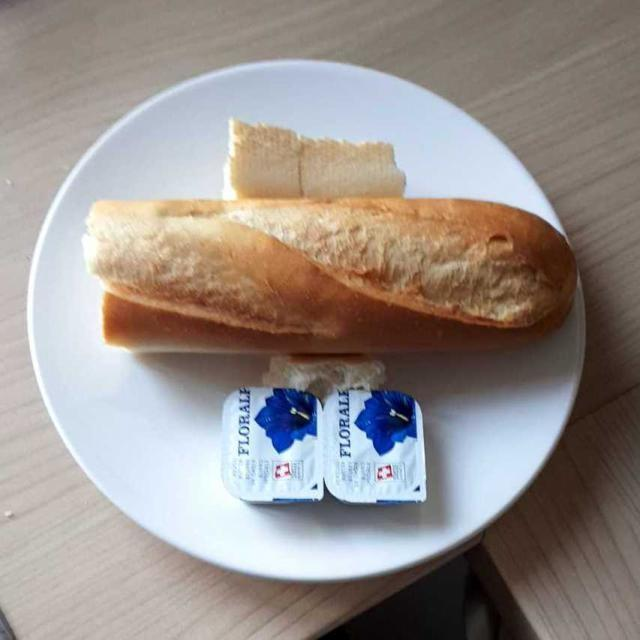bread: (94, 123, 572, 349)
butter: (225, 394, 433, 510)
